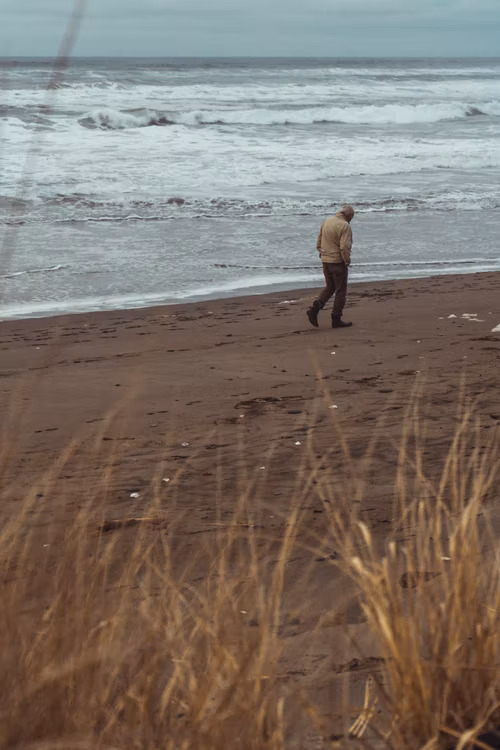person: (306, 207, 356, 327)
